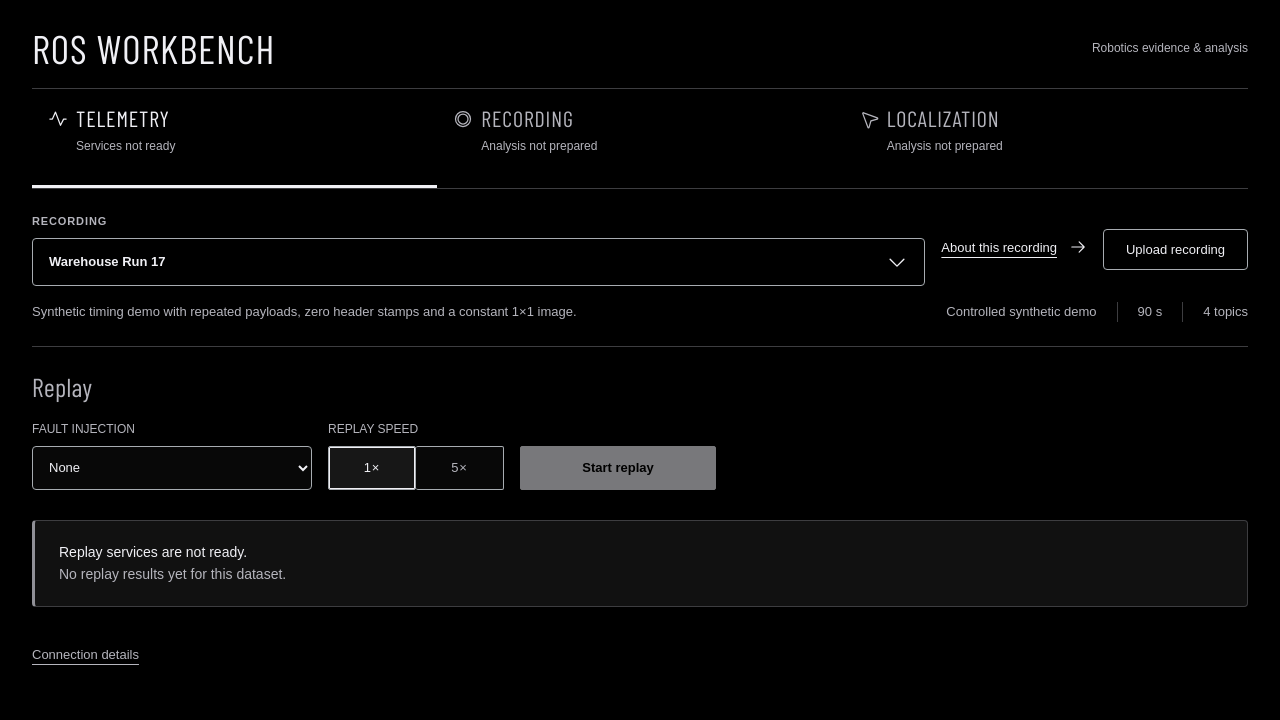
Test: ROS Workbench › renders an unavailable catalog entry when status and source are missing
The image size is (1280, 720).
Click the dropdown named "Dataset": coordinates (107, 261) [32,238,925,286]
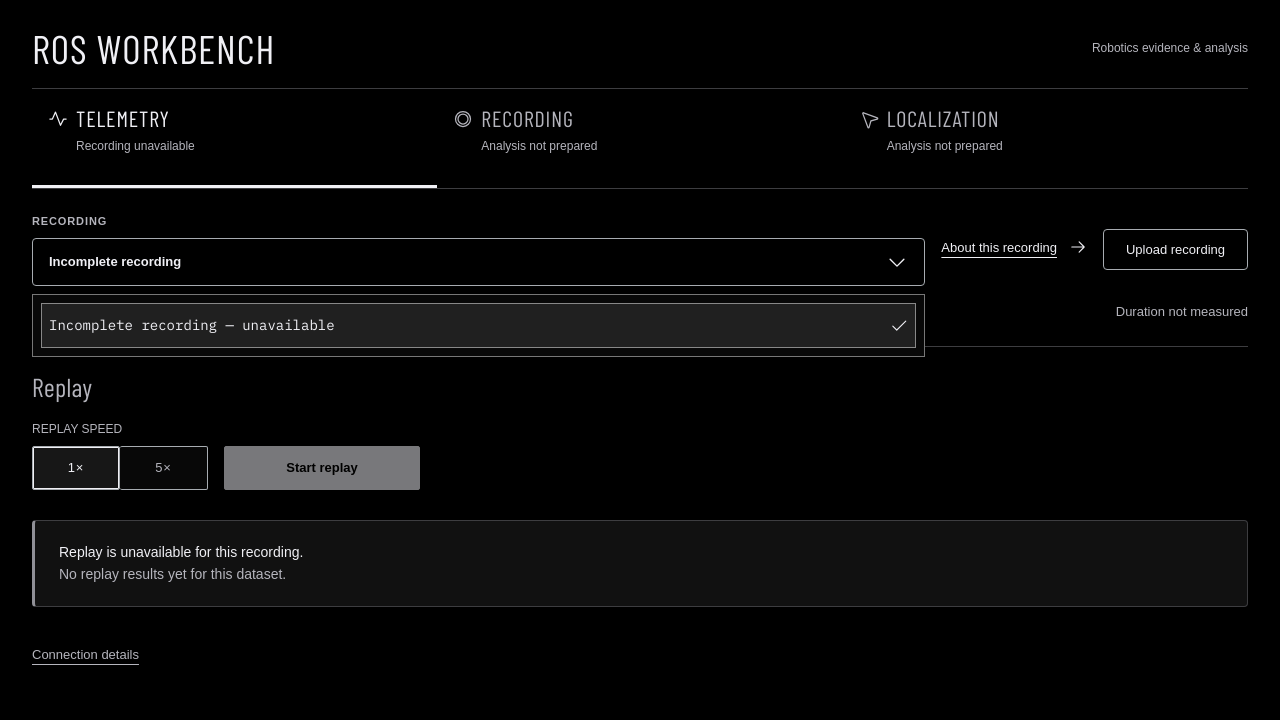
Expected: the button "Start replay" is disabled, [224,446,420,490]
Expected: the option "Incomplete recording — unavailable" is shown, [41,302,916,348]
